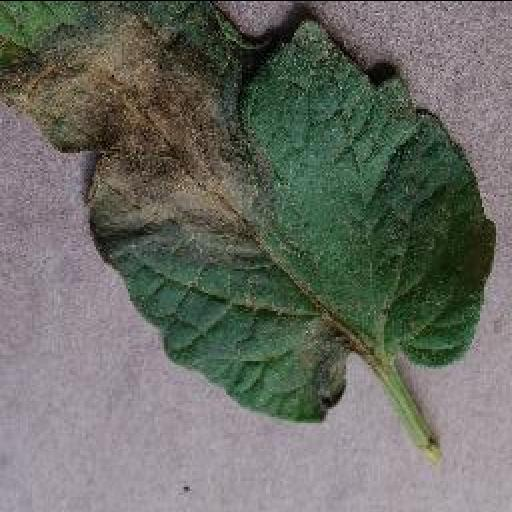disease_tomato: (0, 0, 496, 420)
